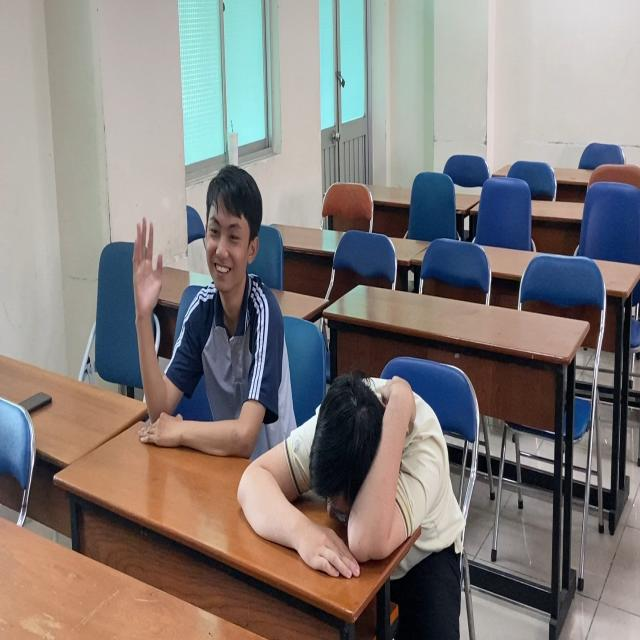raise_hand: (127, 161, 278, 443)
sleep: (243, 367, 476, 607)
